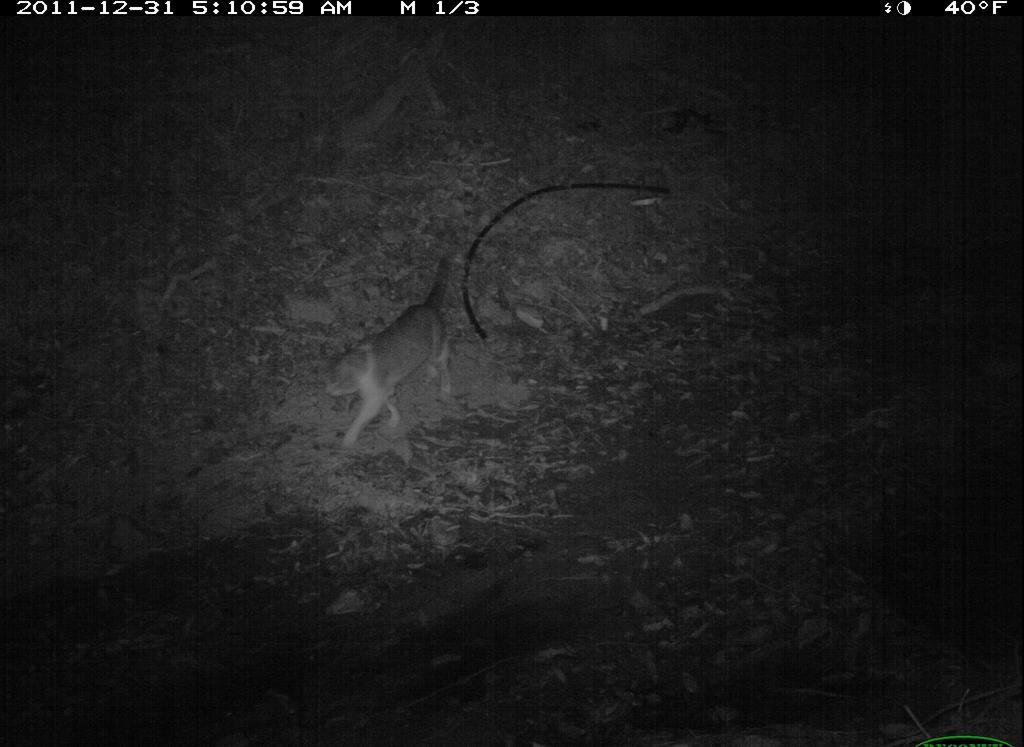cat: (310, 234, 483, 460)
